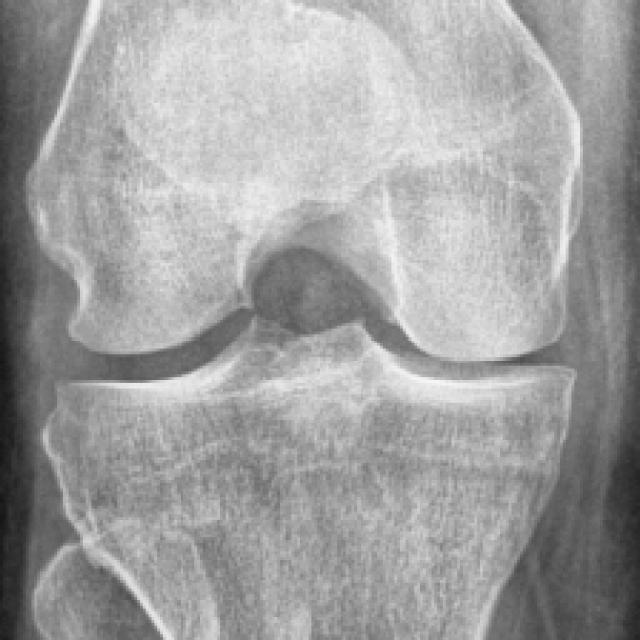femur: (31, 1, 582, 357)
tibia: (46, 315, 579, 637)
